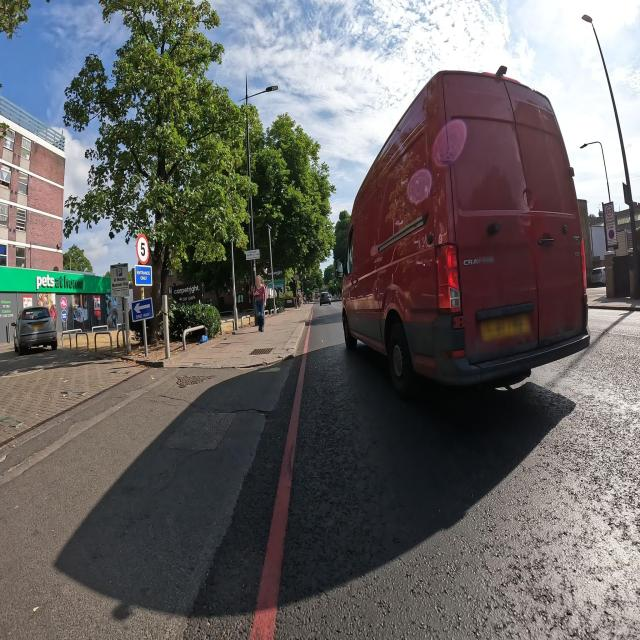car: (339, 64, 590, 400), (13, 304, 58, 356), (590, 266, 606, 286), (319, 291, 332, 306)
